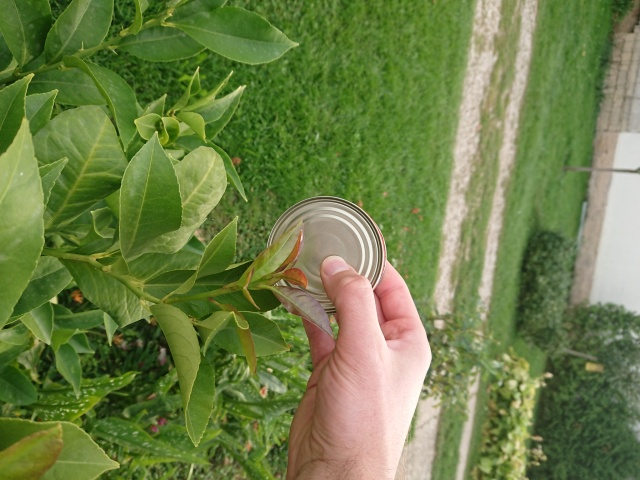Podravka Luncheon Meat 150g: (262, 193, 389, 319)
